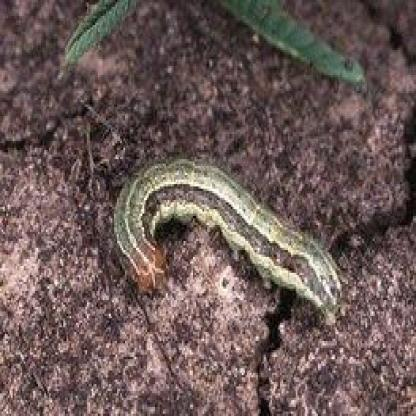armyworm: (108, 149, 350, 328)
